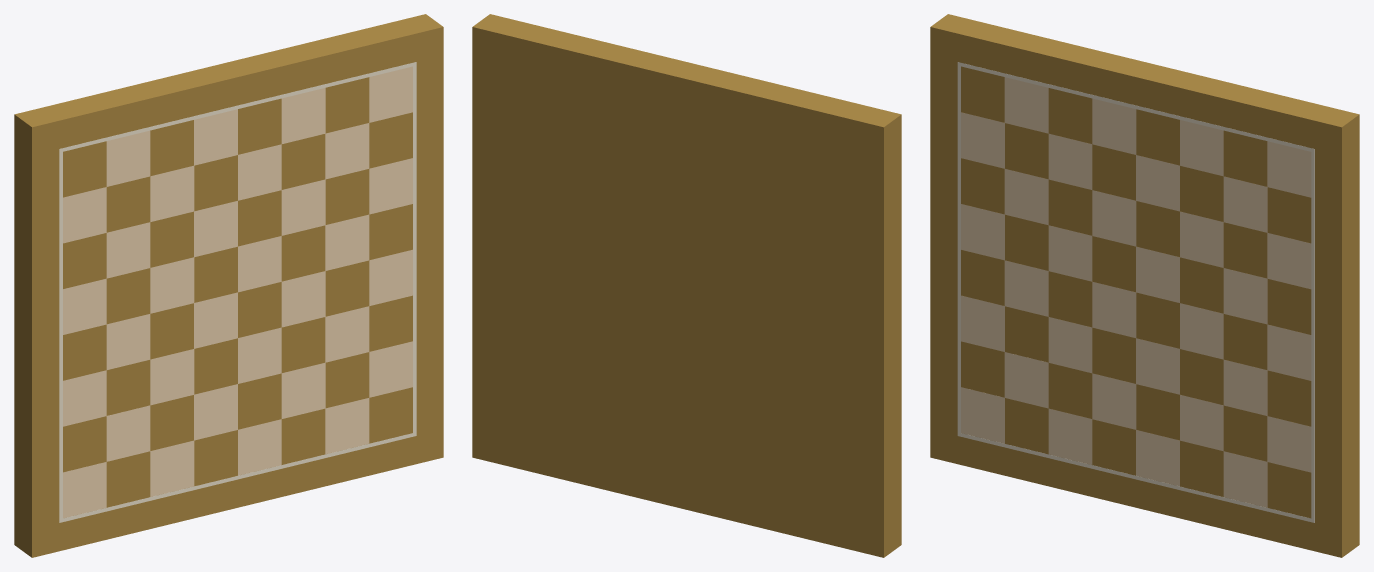
Rendered from board.gltf.
3 views of the same model, side by side, from view 1: azimuth 30°, elevation 25°; view 2: azimuth 150°, elevation 25°; view 3: azimuth 330°, elevation 25° (orthographic).
Parts seen in each view (by area): view 1: board; view 2: board; view 3: board.
Part boxes in pixels (<box>): board: <box>14,14,443,557</box>; board: <box>472,14,901,557</box>; board: <box>930,14,1359,557</box>.
Bounding box in the file's own units: 0.47 × 0.47 × 0.0351.
